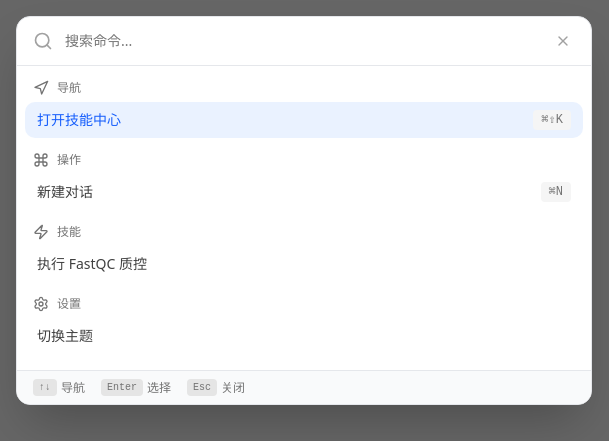
Test: CommandPalette › Search › should filter commands by search query
The image size is (609, 441).
Type "技能" into the field with placeholder "搜索命令..." at coordinates (302, 41), box top-left (65, 31), bottom-right (539, 51)
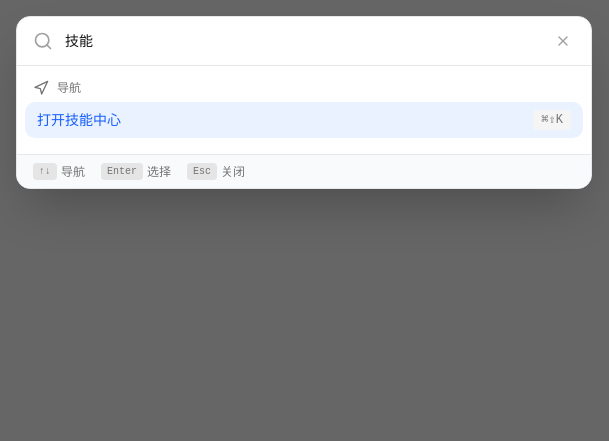
Expected: the text "打开技能中心" is shown, top-left (37, 110), bottom-right (121, 130)
Expected: the button "新建对话" is gone
